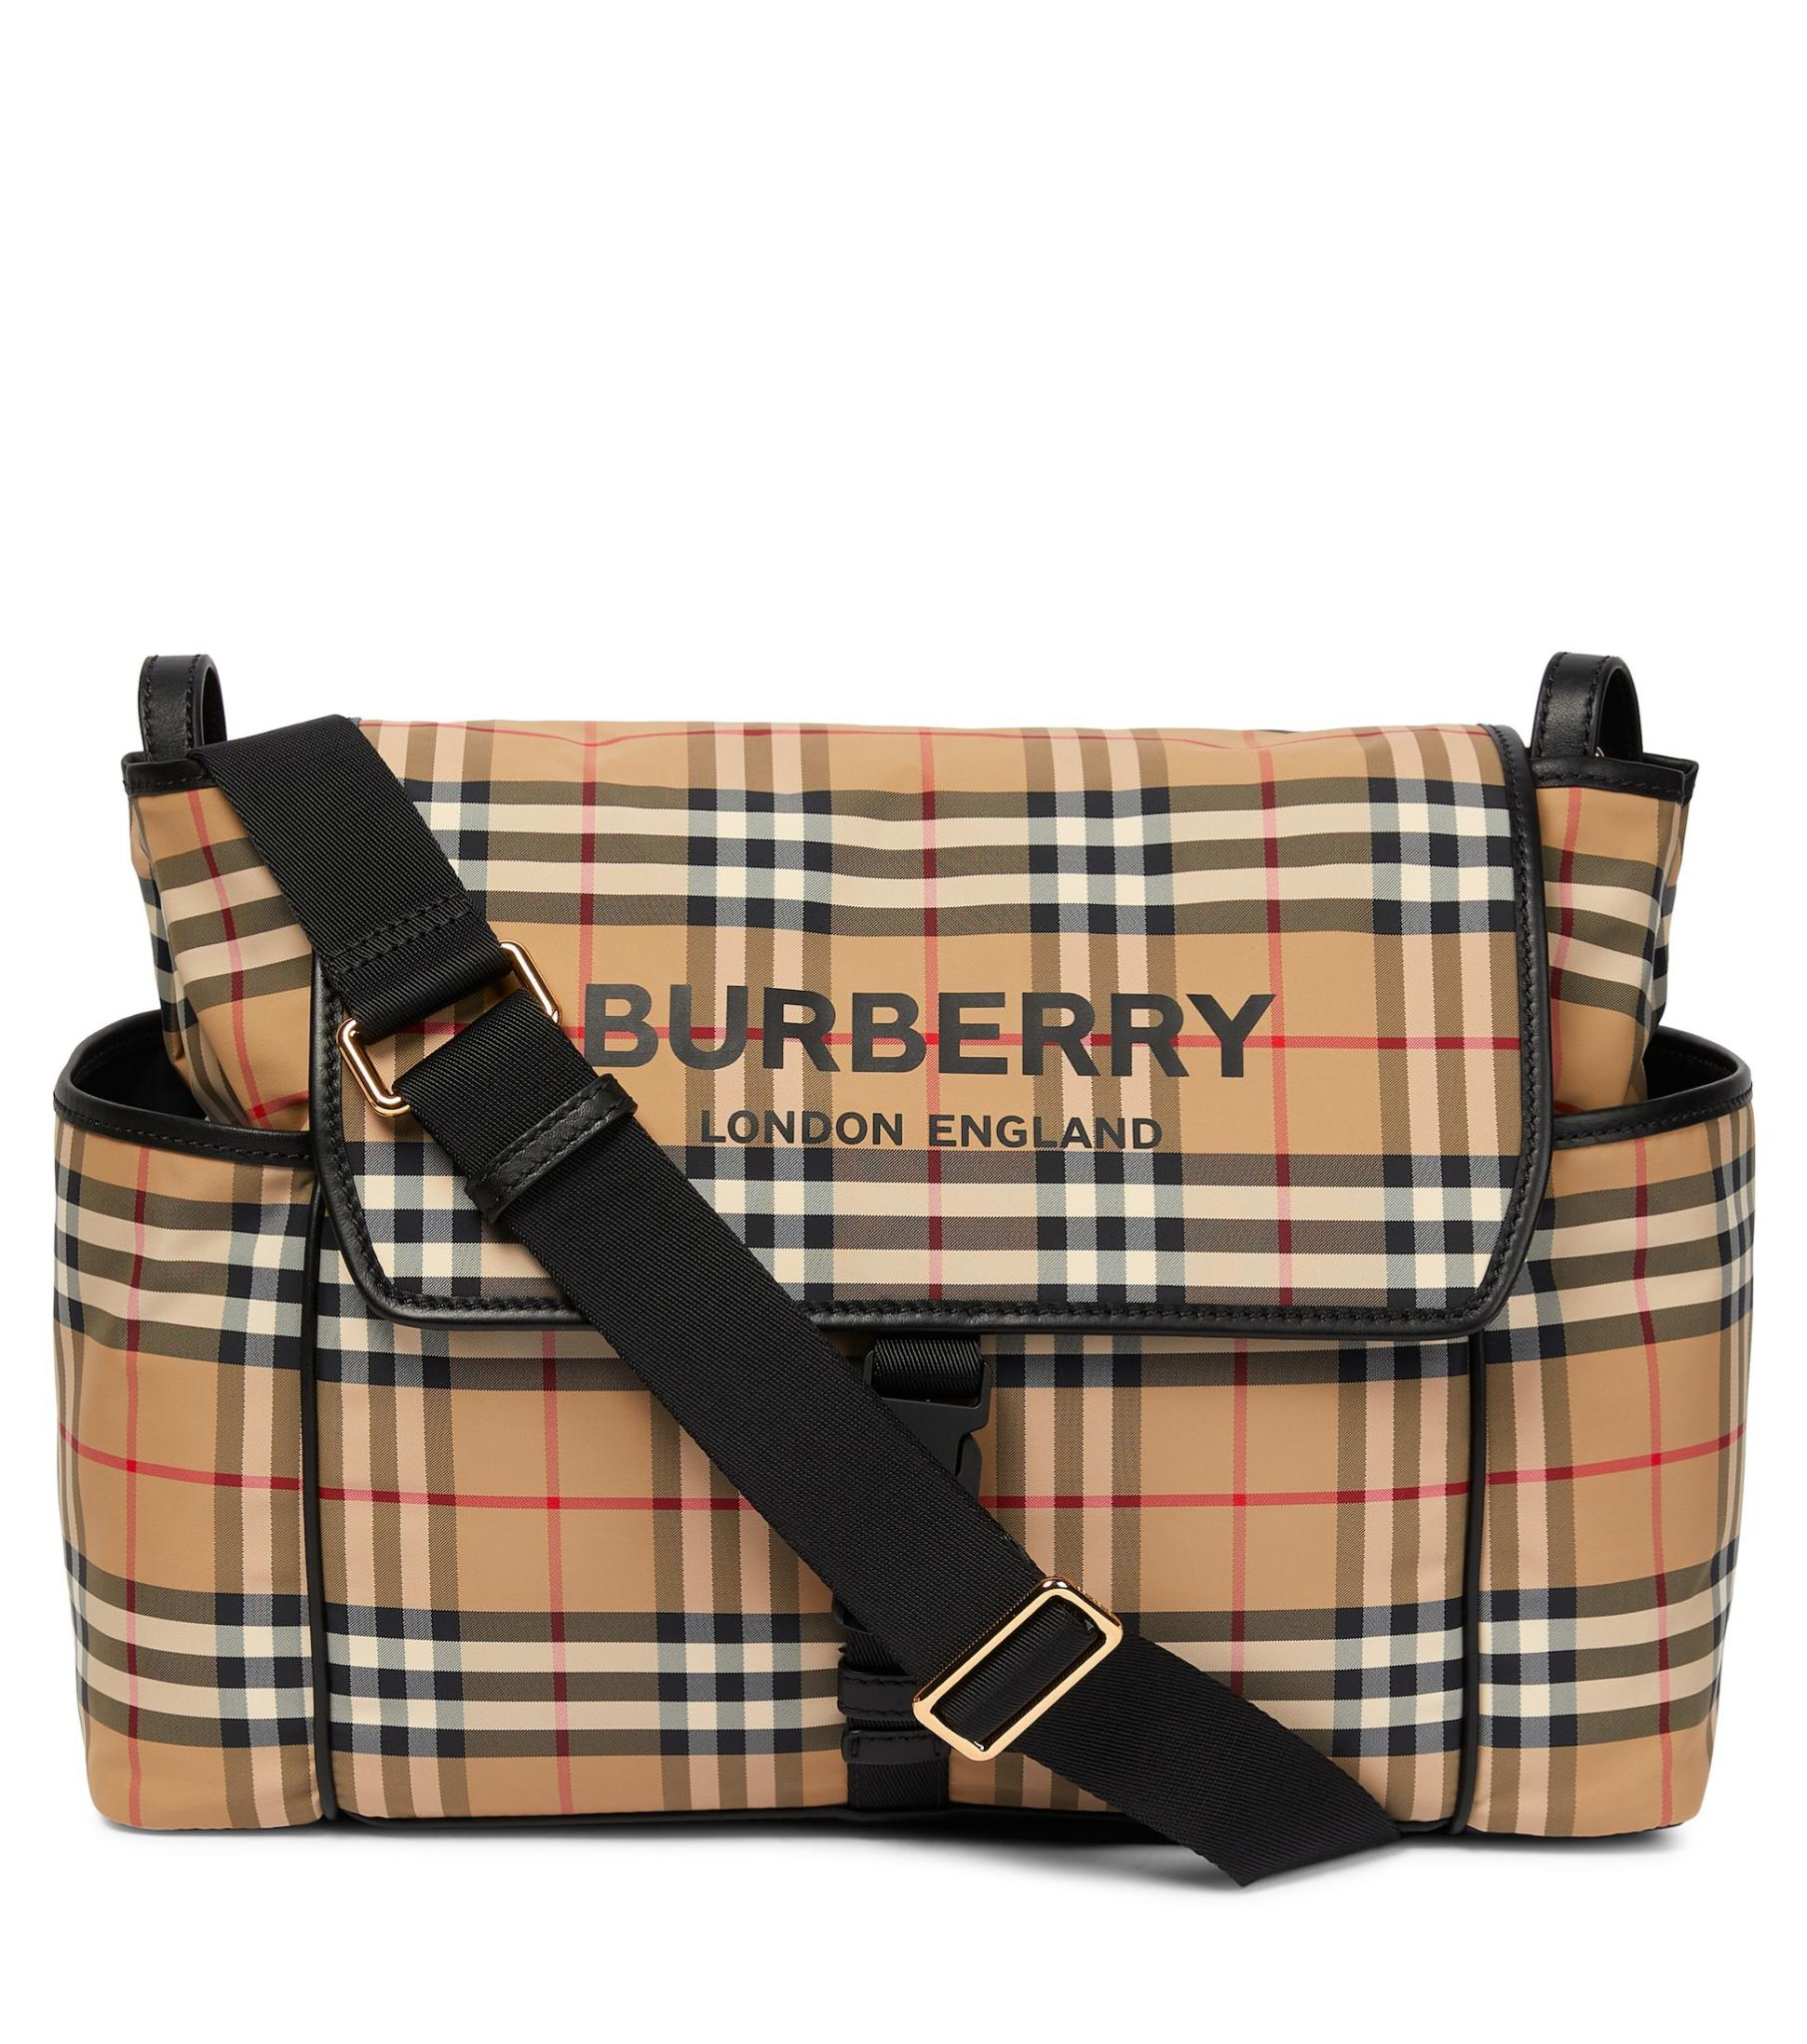BURBERRY: (584, 982, 1275, 1078)
